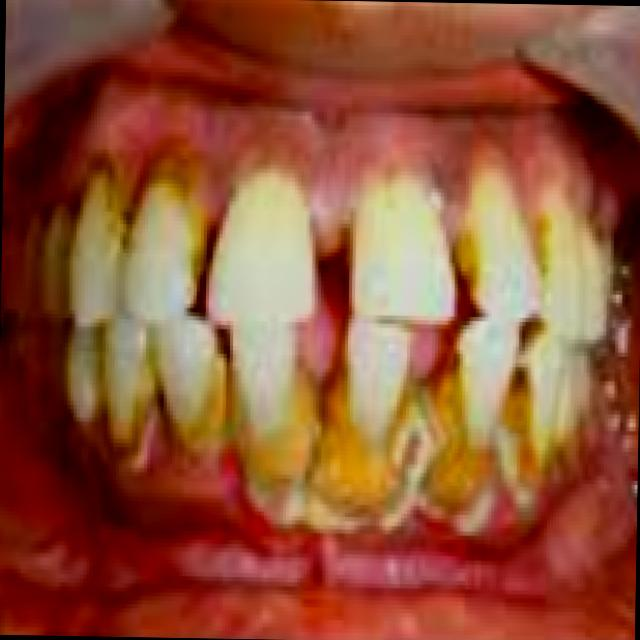calculus: (315, 319, 414, 529), (226, 322, 310, 526), (133, 135, 222, 291), (494, 318, 572, 484), (418, 339, 489, 508), (153, 316, 230, 468), (77, 366, 156, 469), (68, 147, 134, 260), (298, 190, 366, 294), (6, 333, 76, 430), (574, 201, 640, 303), (437, 211, 500, 305), (373, 155, 425, 242), (24, 192, 80, 257), (522, 197, 565, 271)
